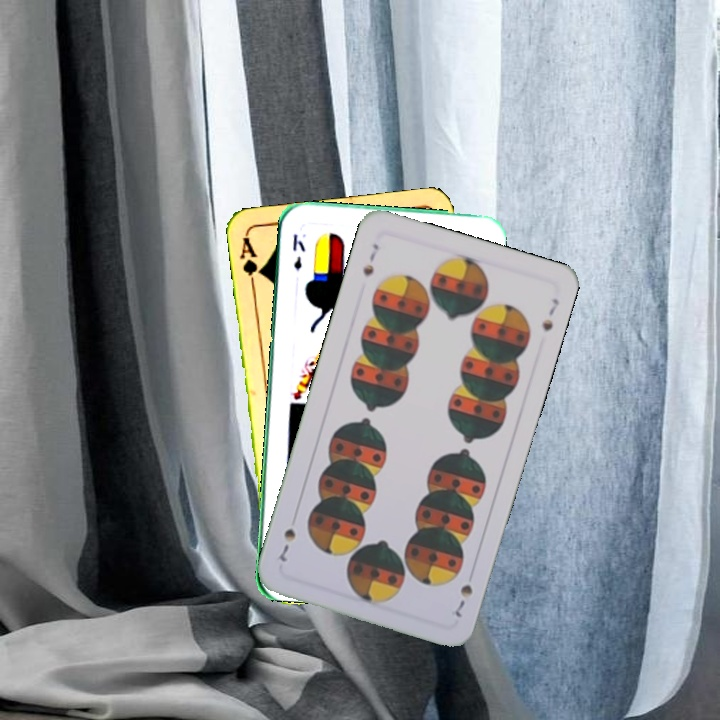EK: (289, 229, 308, 273)
GA: (236, 233, 265, 292)
S7: (447, 580, 476, 620), (358, 239, 382, 280)
